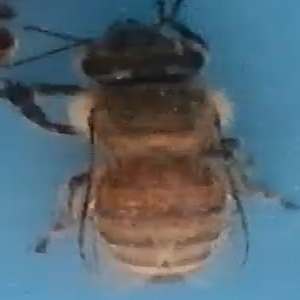bee: (28, 3, 293, 280)
